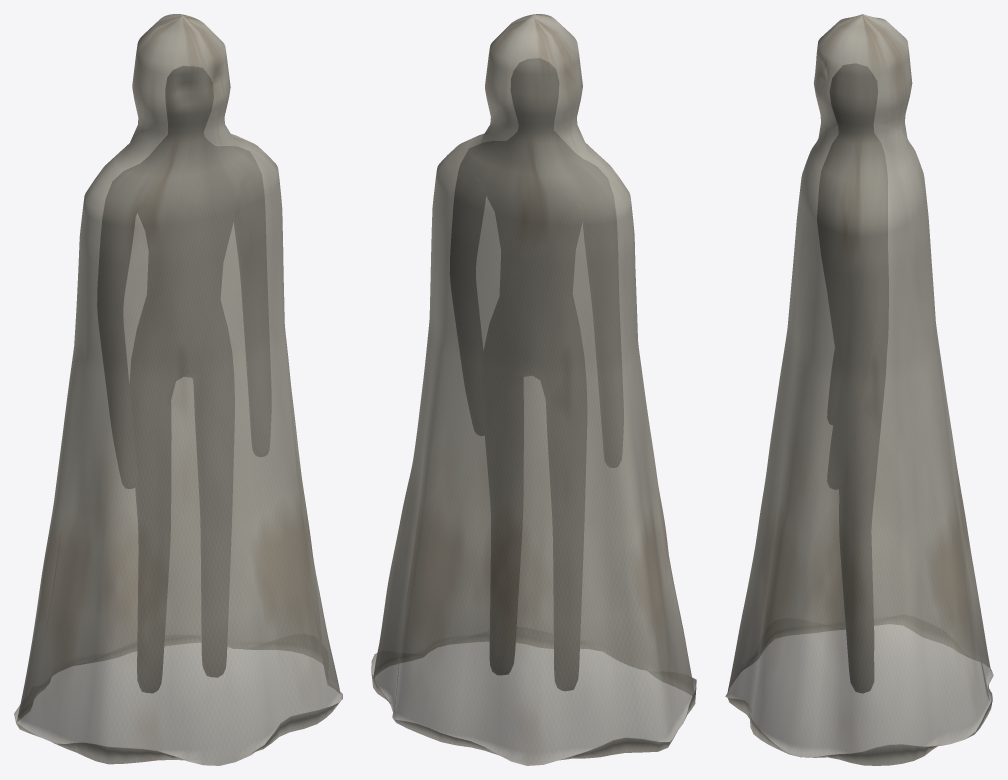
The model's file is draped.glb.
The picture shows the model from 3 angles, left to right: view 1: azimuth 30°, elevation 25°; view 2: azimuth 150°, elevation 25°; view 3: azimuth 270°, elevation 25°; orthographic projection.
Visible parts, largest first — view 1: Draped, DrapedBody; view 2: Draped, DrapedBody; view 3: Draped, DrapedBody.
Part boxes in pixels (bbox=[...]): Draped: bbox=[14, 14, 342, 765]; DrapedBody: bbox=[97, 66, 271, 692]; Draped: bbox=[371, 14, 696, 765]; DrapedBody: bbox=[450, 58, 623, 690]; Draped: bbox=[725, 14, 993, 765]; DrapedBody: bbox=[817, 63, 888, 693].
Size of the model in its own units: 0.8239 by 1.84 by 0.6514.
2 materials, 1 textured.
